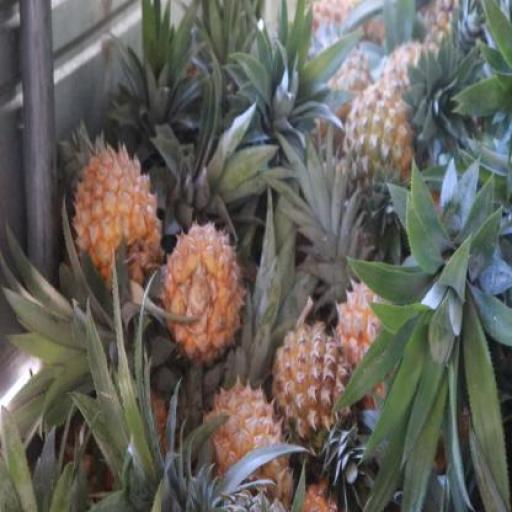Pineapple - v8 v1: (72, 153, 162, 300), (273, 325, 352, 473), (203, 384, 294, 507), (160, 226, 240, 360)
